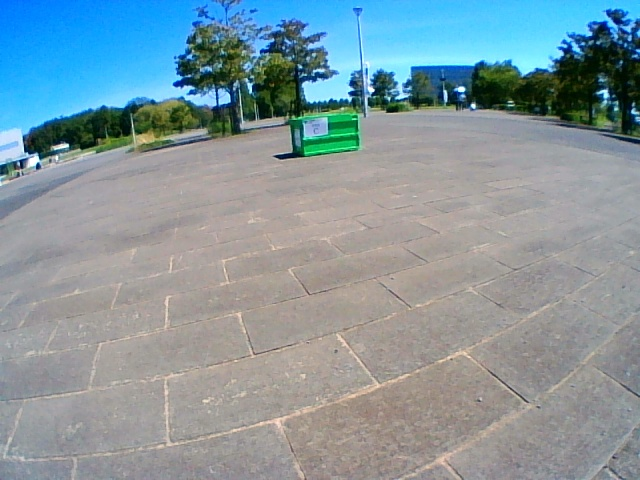green_box: (290, 113, 359, 156)
tag: (306, 120, 328, 135)
